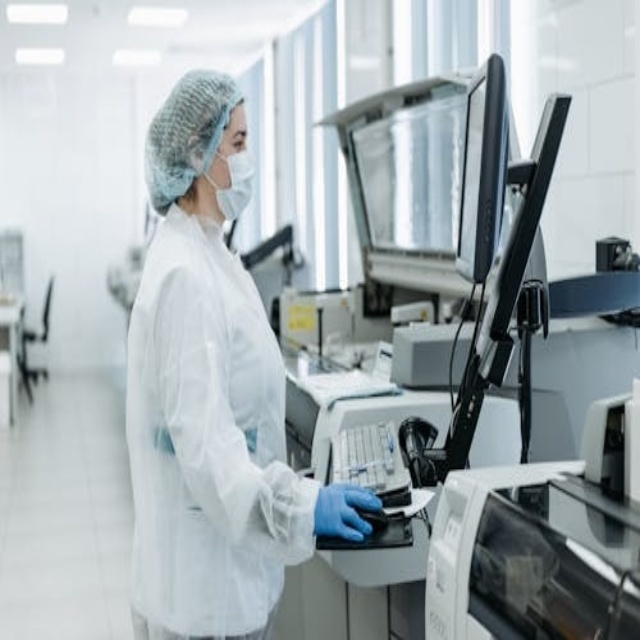Guantes: (307, 477, 385, 546)
Mascara: (207, 143, 256, 222)
Sin_gafas: (219, 121, 255, 161)
